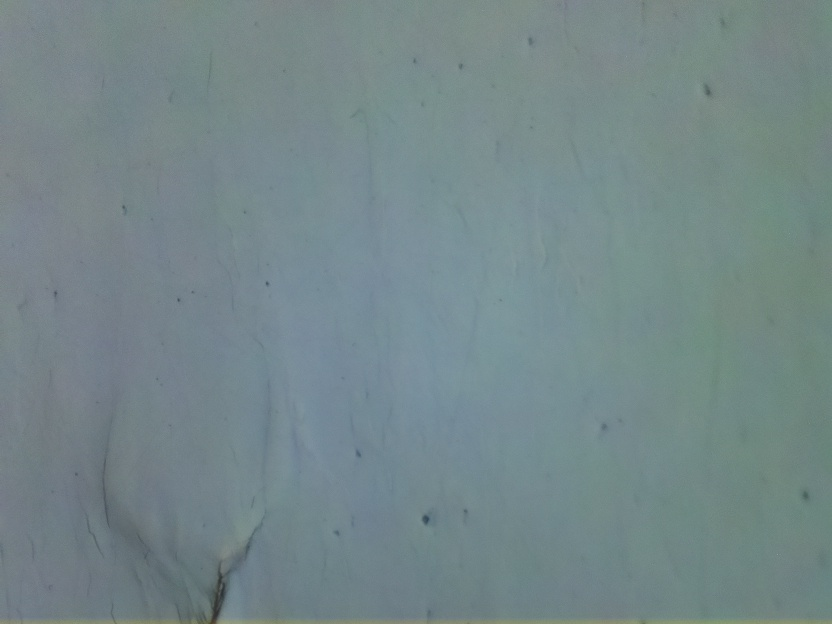crack: (207, 556, 235, 624)
